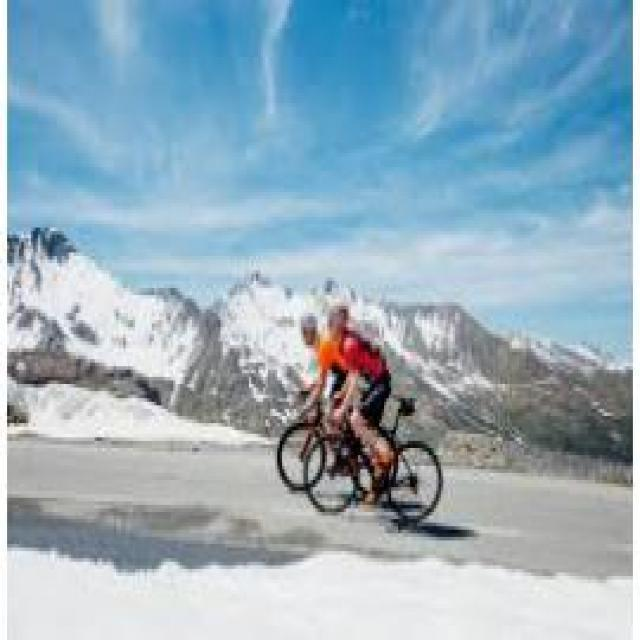bicycle: (293, 385, 447, 523)
